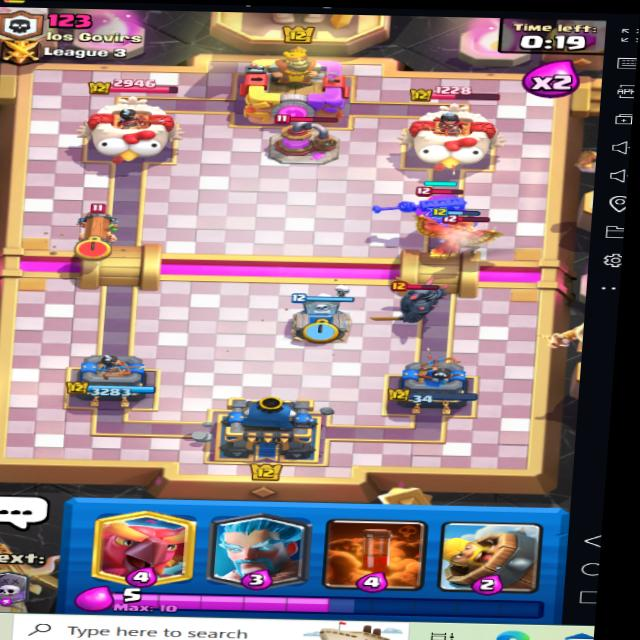battle-ram: (55, 195, 128, 266)
elixir-collector: (245, 118, 345, 163)
pekka: (378, 278, 467, 332)
skeleton-king: (386, 186, 484, 236)
